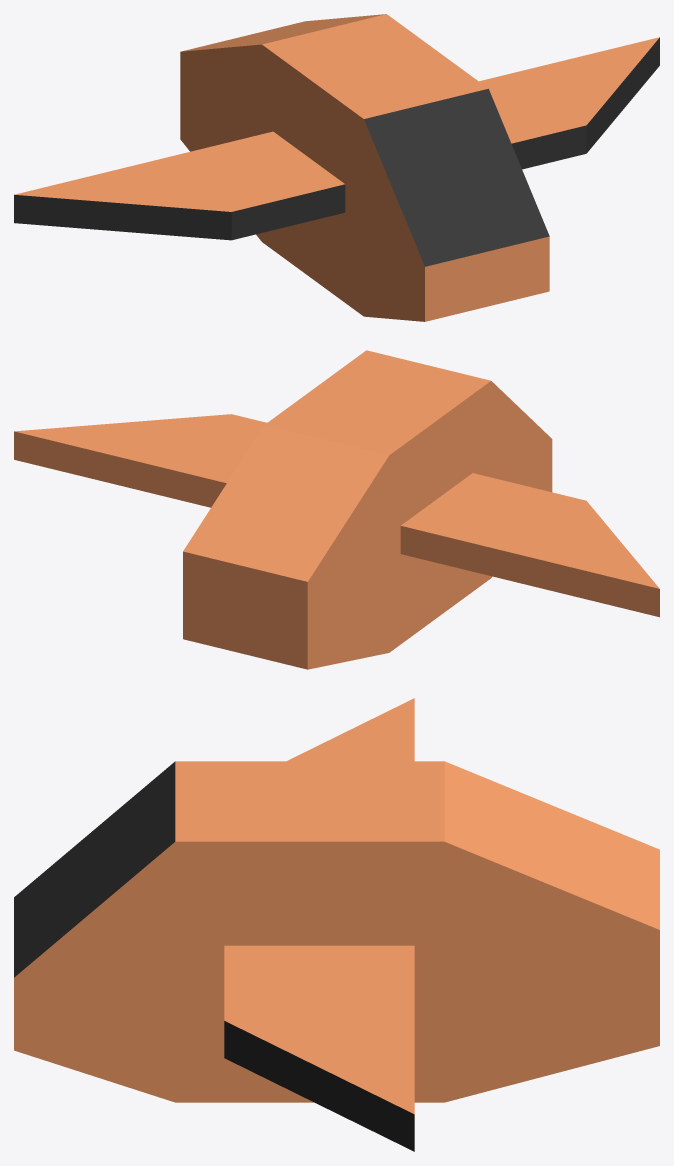
The model's file is car-orange.dae.
3 views of the same model, one above another, from view 1: azimuth 30°, elevation 25°; view 2: azimuth 150°, elevation 25°; view 3: azimuth 270°, elevation 25° (orthographic). The views are drawn at different scales.
Parts seen in each view (by area): view 1: Cylinder; view 2: Cylinder; view 3: Cylinder.
Boxes of the visible parts, left/top/right/bottom form: Cylinder: left=14, top=14, right=659, bottom=321; Cylinder: left=14, top=350, right=659, bottom=669; Cylinder: left=14, top=698, right=659, bottom=1151.
Bounding box in the file's own units: 10.35 × 6.79 × 3.02.
